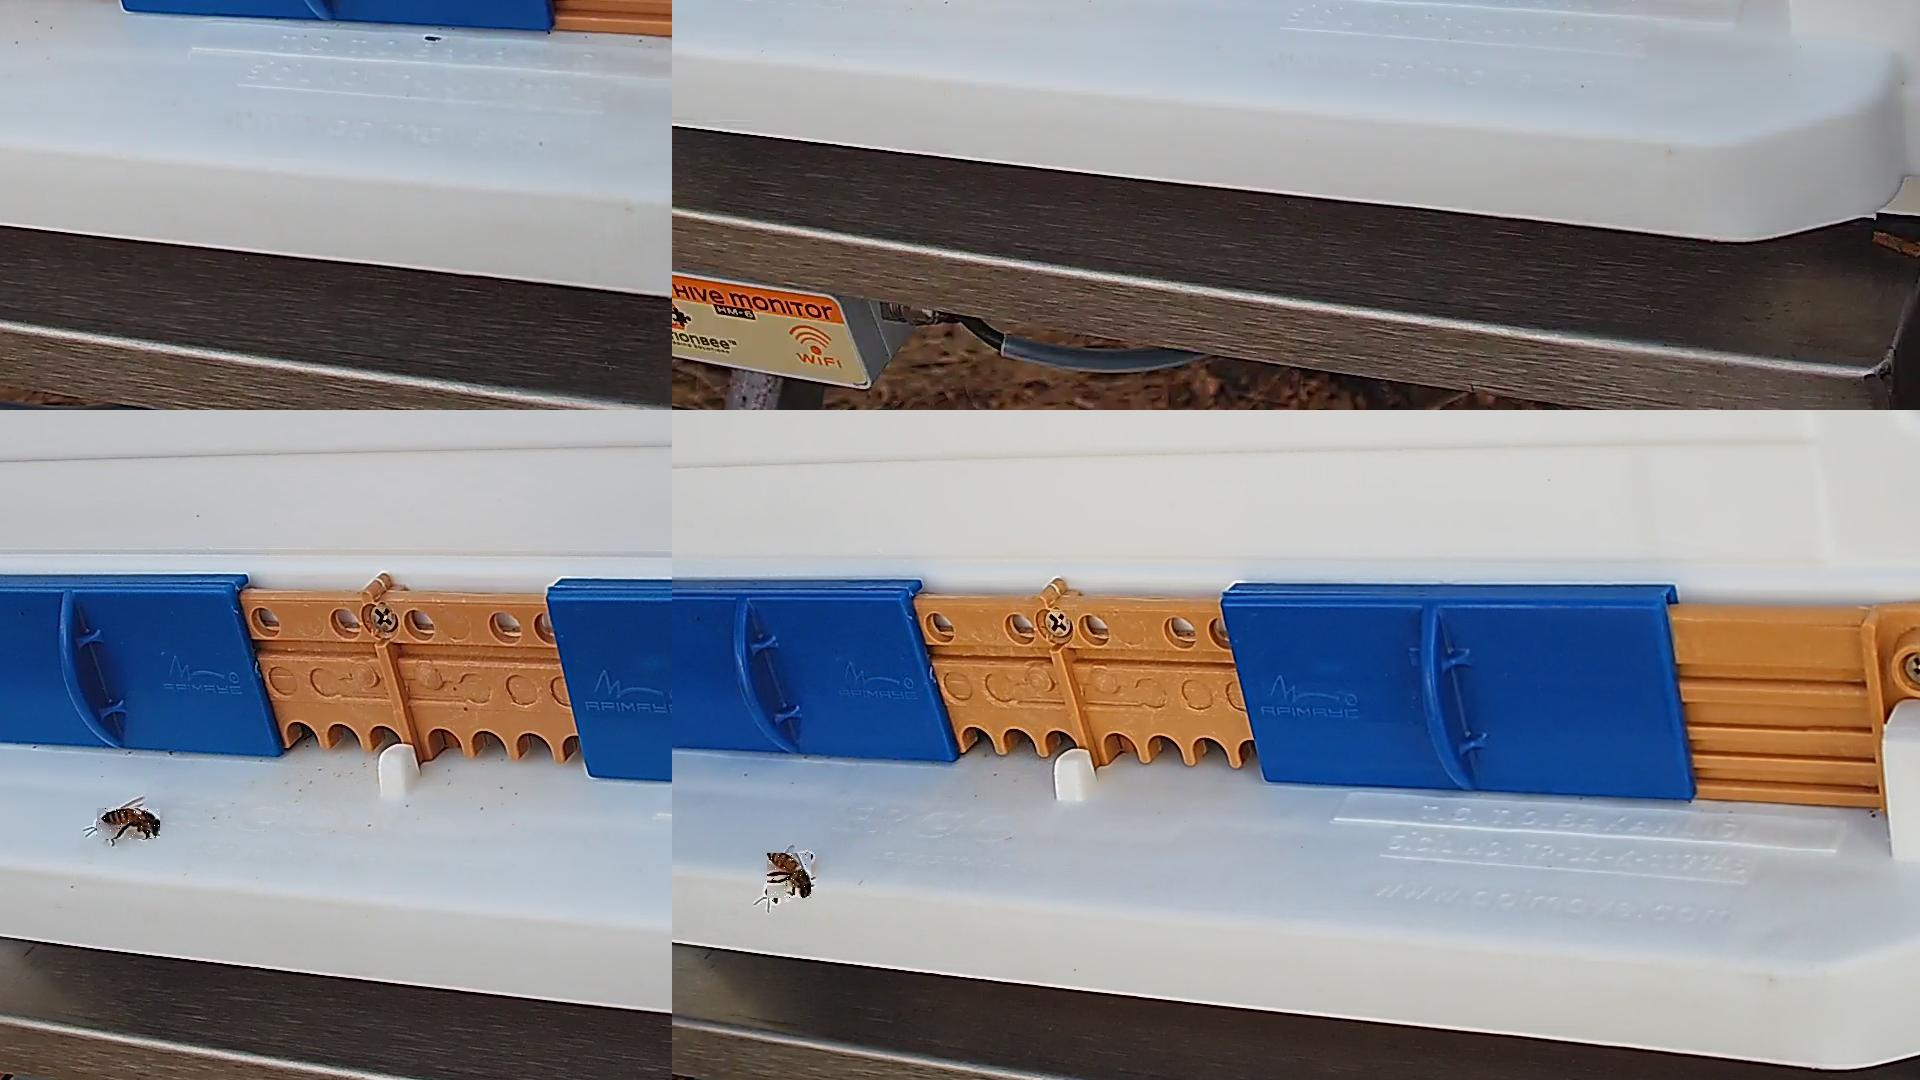bee: (767, 853, 812, 903), (98, 808, 161, 840)
